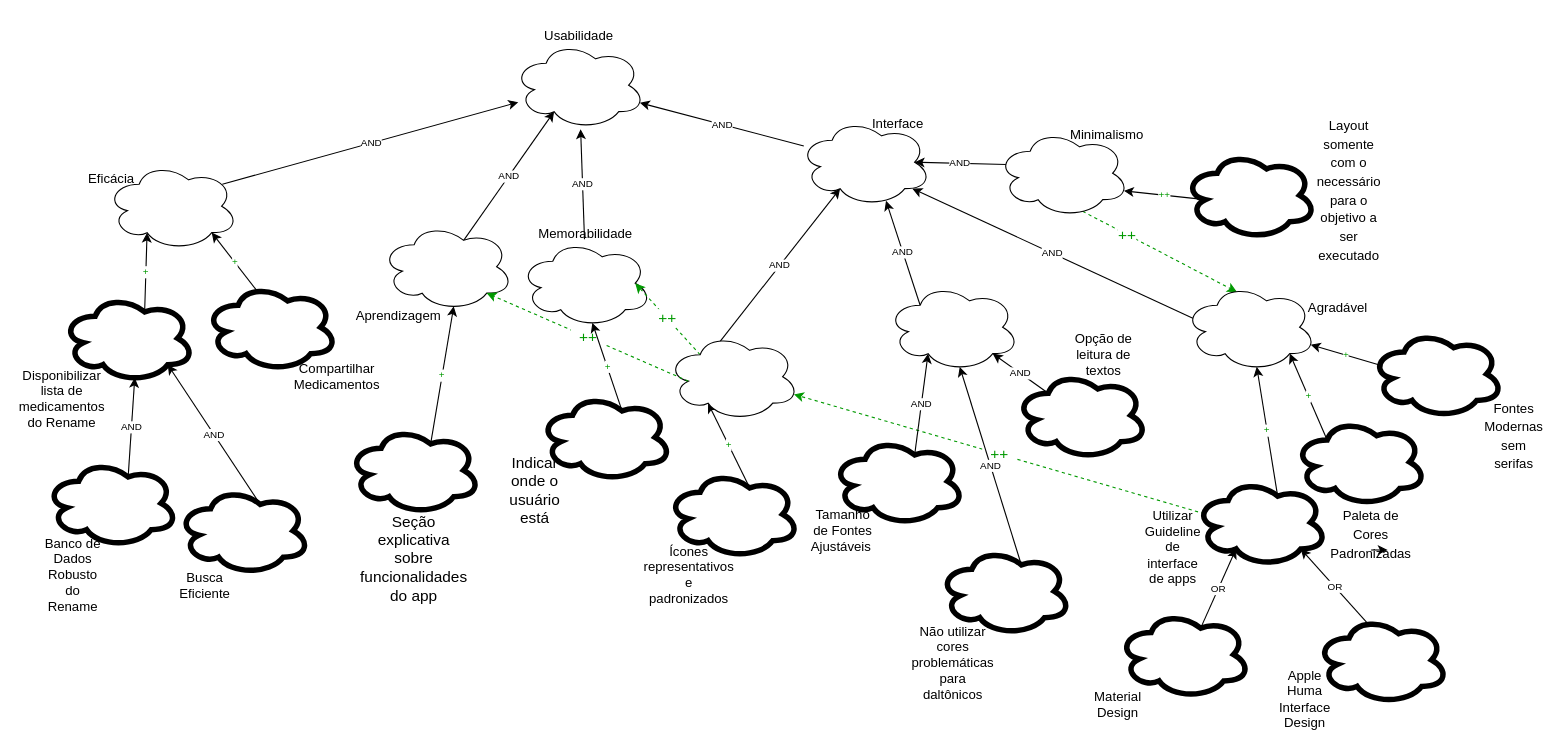
Image size: 1565x749. Some labels were removed from this diagram. Here are the shapes that lost their labels. From the top down, the centre of each, then its label:
point (952, 326): Acessibilidade
point (732, 376): Ser intuitiva
